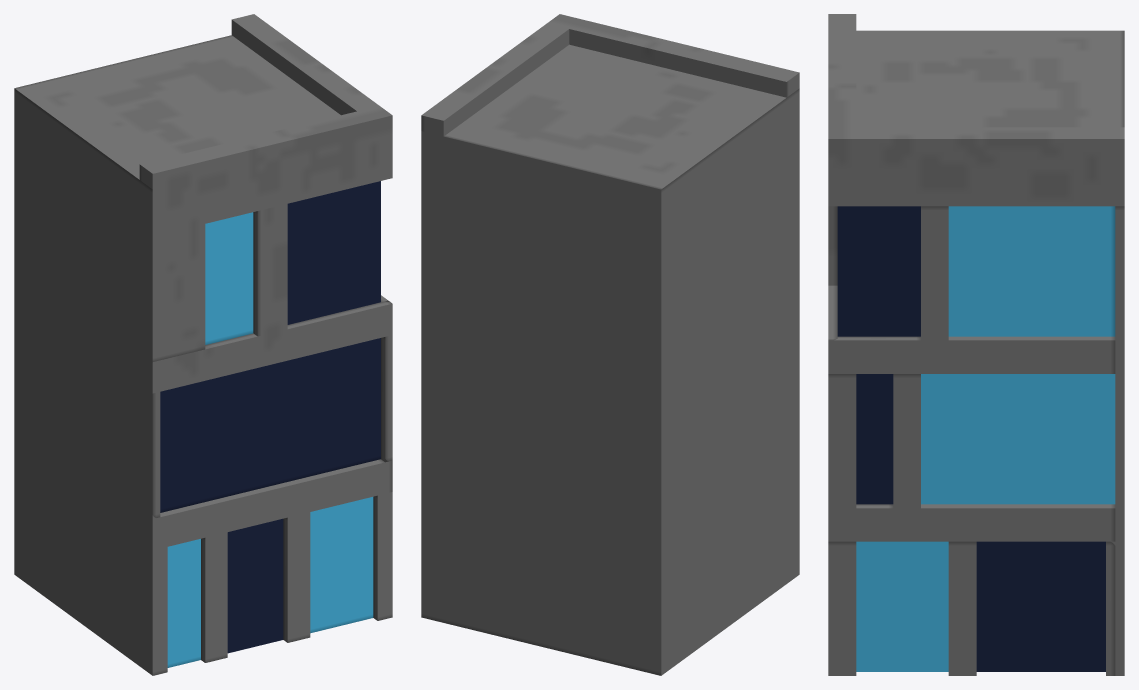
File: B_M_GÓRA_PRAWO_LEWO.dae
3 views of the same model, side by side, from view 1: azimuth 30°, elevation 25°; view 2: azimuth 150°, elevation 25°; view 3: azimuth 270°, elevation 25° (orthographic). The views are drawn at different scales.
Parts seen in each view (by area): view 1: Content; view 2: Content; view 3: Content.
Boxes of the visible parts, x1,y1,x2,y2 form: Content: [14, 14, 392, 675]; Content: [421, 14, 799, 675]; Content: [828, 14, 1124, 675].
Size of the model in its own units: 32 by 64 by 32.
Materials: 1 (1 with a texture image).
